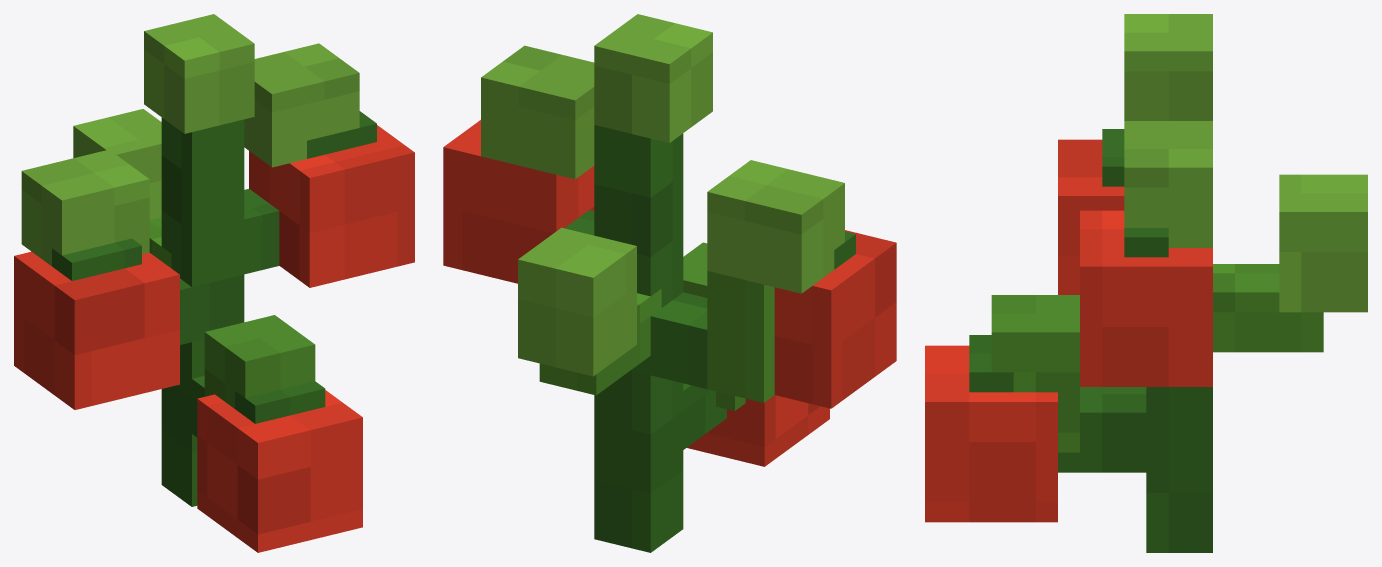
File: SM_VMF_Crop_Tomato_Mature.glb
3 views of the same model, side by side, from view 1: azimuth 30°, elevation 25°; view 2: azimuth 150°, elevation 25°; view 3: azimuth 270°, elevation 25° (orthographic). The views are drawn at different scales.
Visible parts, largest first — view 1: SM_VMF_Crop_Tomato_Mature_Geo; view 2: SM_VMF_Crop_Tomato_Mature_Geo; view 3: SM_VMF_Crop_Tomato_Mature_Geo.
Boxes of the visible parts, x1,y1,x2,y2 form: SM_VMF_Crop_Tomato_Mature_Geo: [14, 14, 414, 552]; SM_VMF_Crop_Tomato_Mature_Geo: [443, 14, 896, 552]; SM_VMF_Crop_Tomato_Mature_Geo: [925, 14, 1367, 552].
Size of the model in its own units: 0.4 by 0.5 by 0.4.
1 material, 1 textured.
